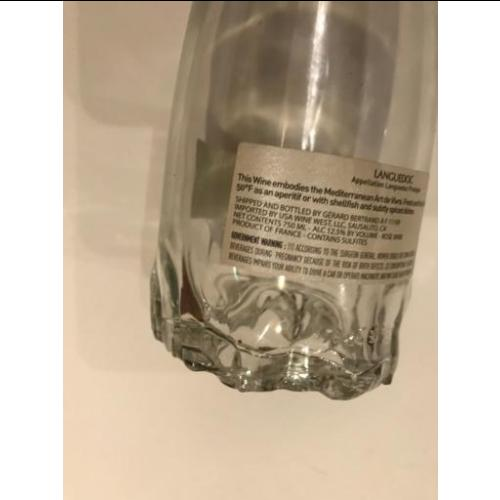glass: (151, 0, 437, 399)
